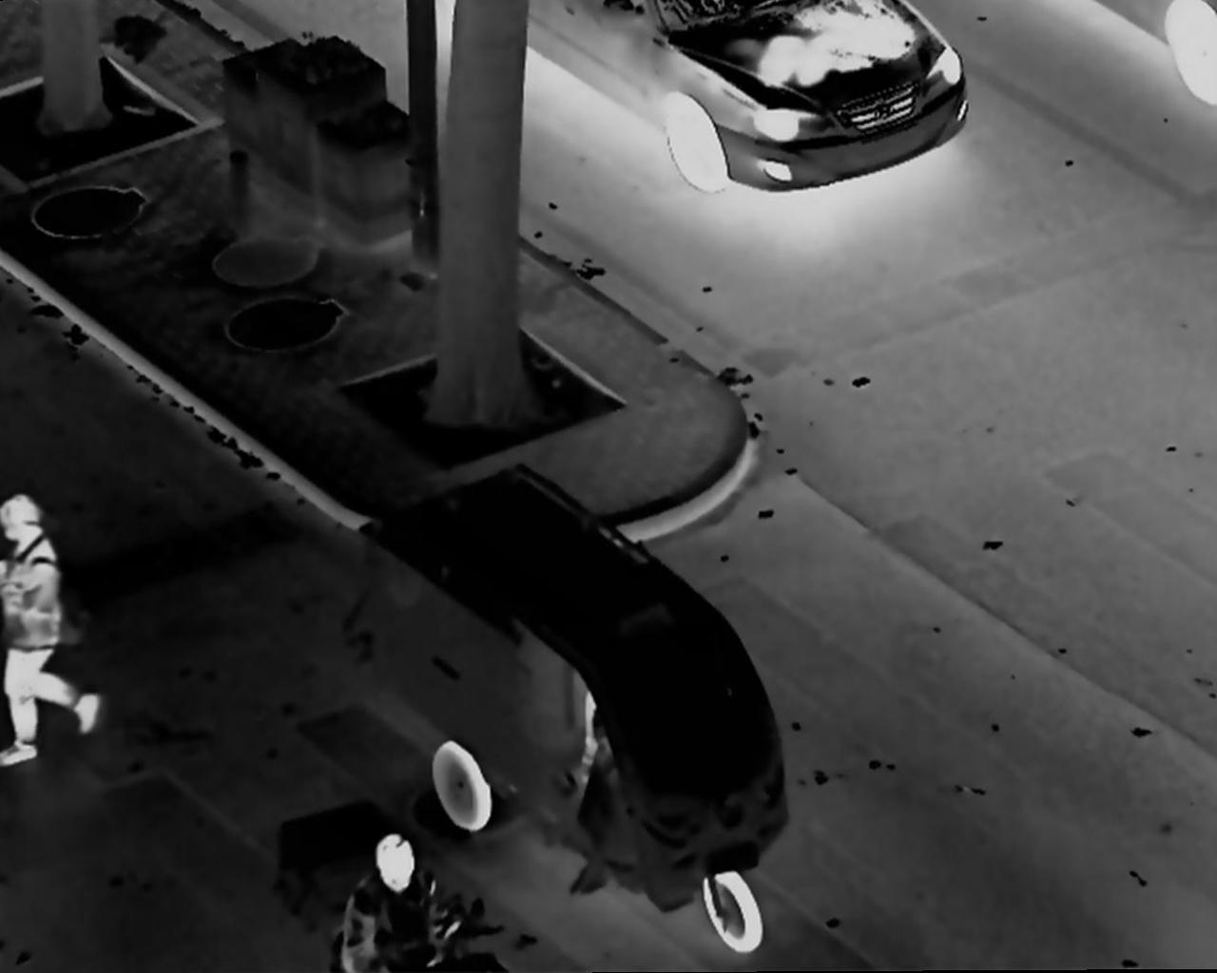person: (344, 828, 477, 973)
